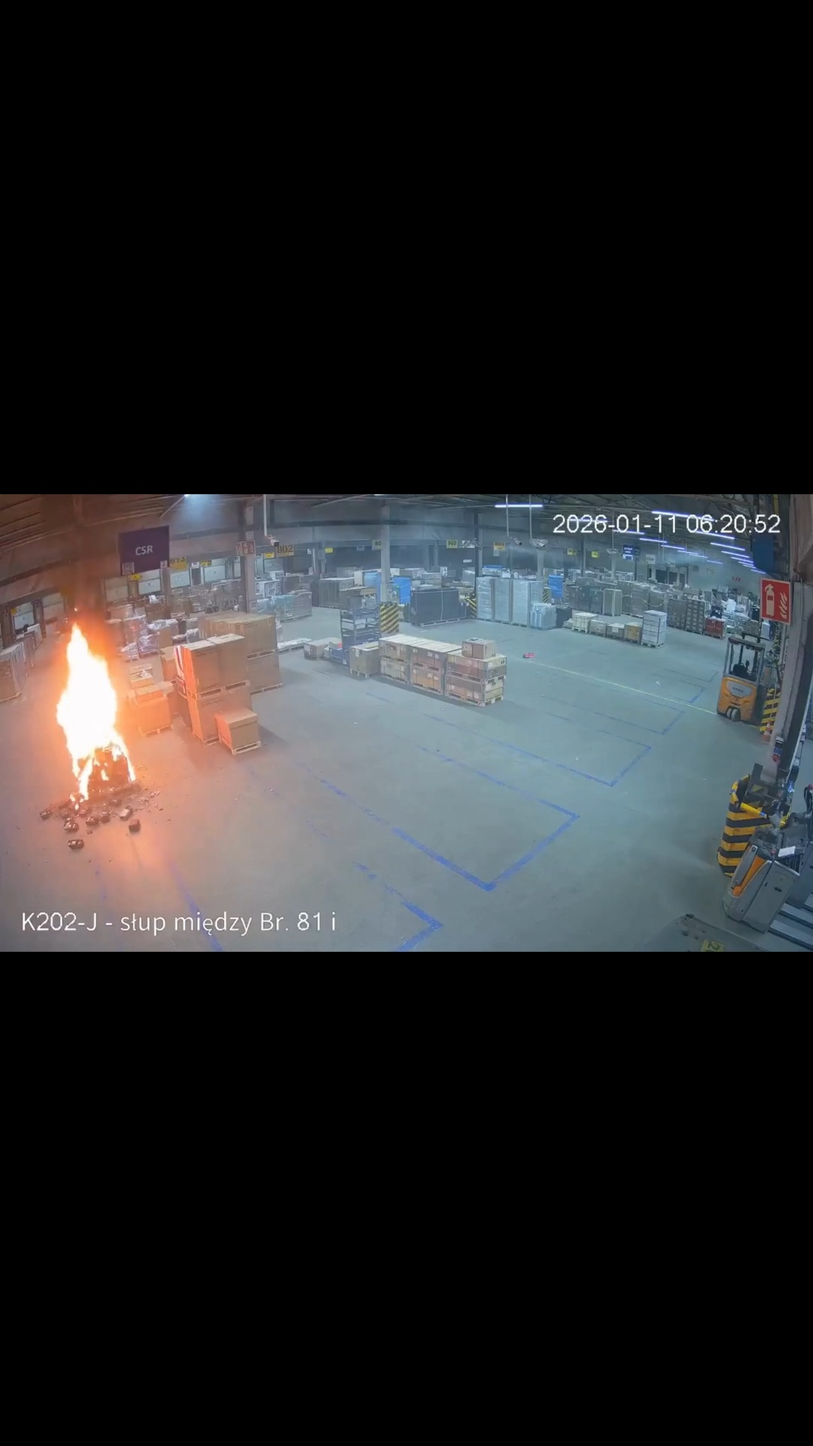fire: (55, 621, 138, 812)
smoke: (1, 496, 169, 646)
